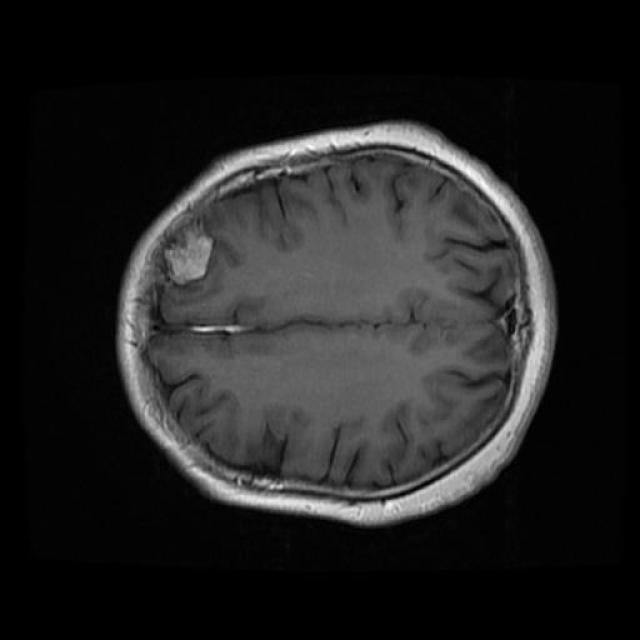Meningioma: (165, 221, 213, 284)
